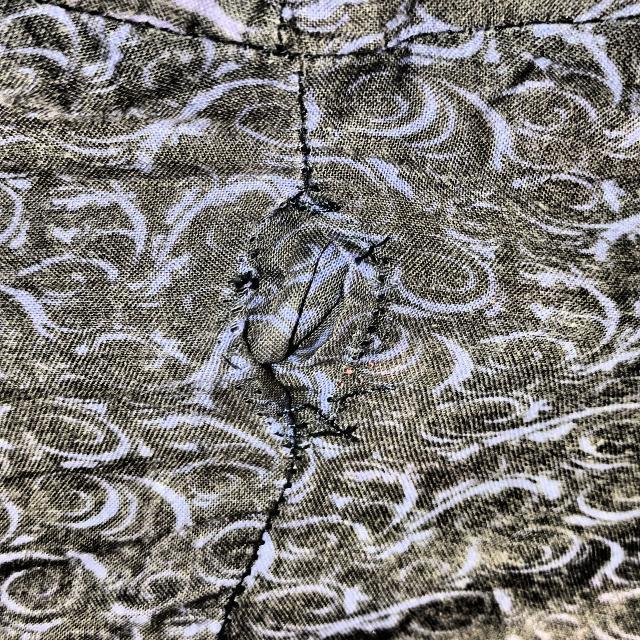cut: (207, 150, 439, 517)
